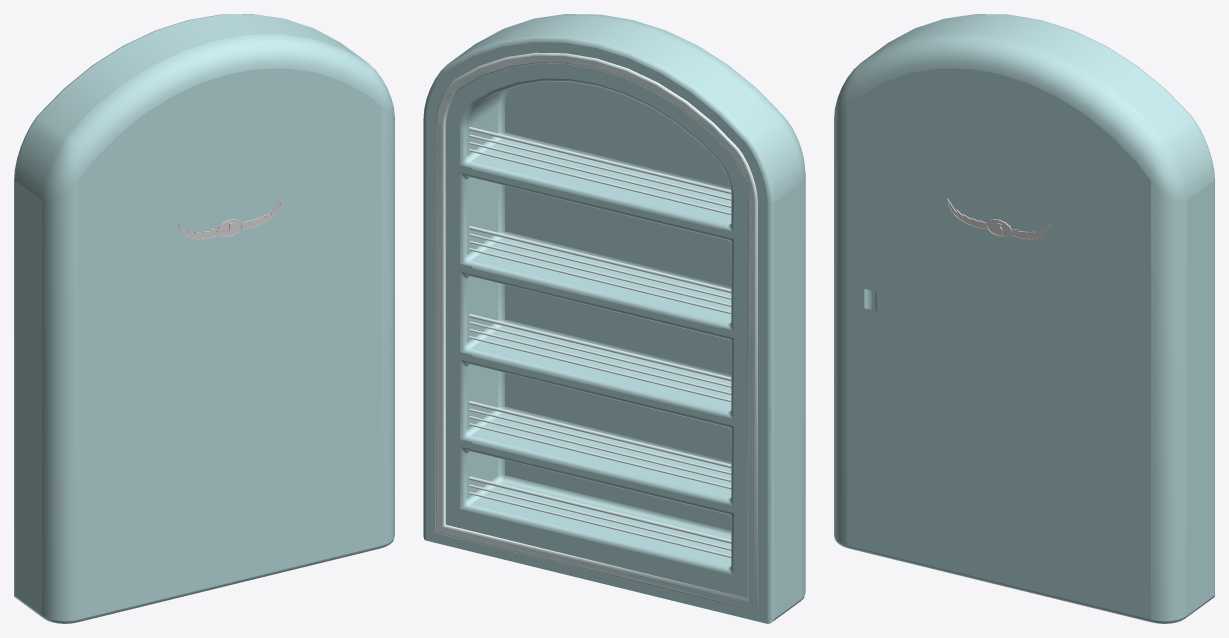
The model's file is board.dae.
The picture shows the model from 3 angles, left to right: view 1: azimuth 30°, elevation 25°; view 2: azimuth 150°, elevation 25°; view 3: azimuth 330°, elevation 25°; orthographic projection.
Visible parts, largest first — view 1: group_17.021; view 2: group_17.021, group_17.013, group_17.020, group_17.019, group_17.017, group_17.018, group_8.012, group_17.016, group_17.014, group_8.014, group_17.015, instance_44.005 (+18 smaller); view 3: group_17.021.
Part boxes in pixels (x1,y1,x2,y2): group_17.021: (14, 14, 394, 623); group_17.021: (423, 14, 805, 623); group_17.013: (445, 63, 747, 577); group_17.020: (460, 78, 733, 231); group_17.019: (460, 172, 733, 330); group_17.017: (460, 271, 733, 418); group_17.018: (460, 359, 733, 505); group_8.012: (445, 63, 747, 598); group_17.016: (460, 446, 733, 575); group_17.014: (435, 52, 757, 611); group_8.014: (436, 56, 754, 609); group_17.015: (442, 62, 748, 601); instance_44.005: (469, 476, 731, 543); group_17.021: (834, 14, 1214, 623).
Bounding box in the file's own units: 1.24 × 0.2772 × 1.82.
